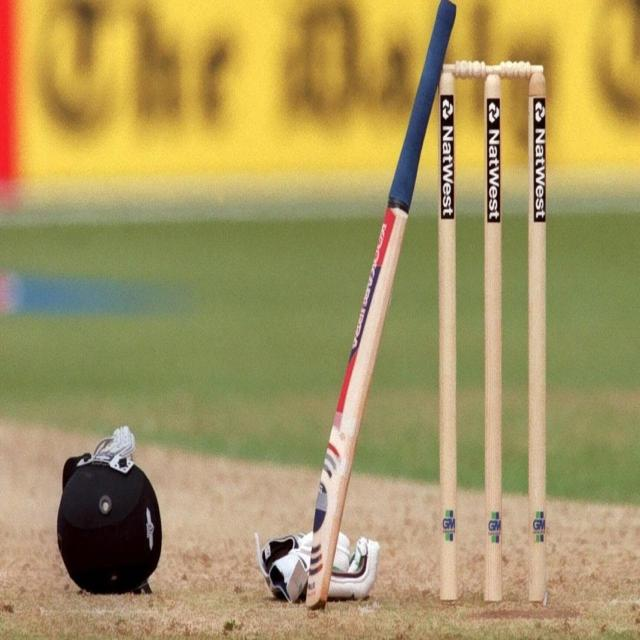stump: (439, 56, 554, 603)
